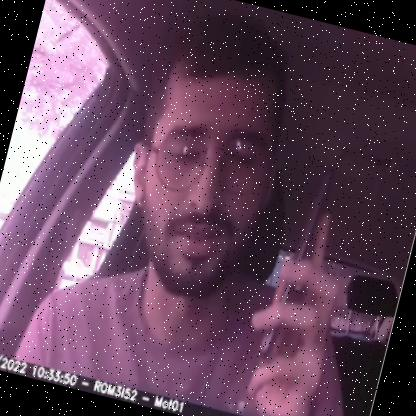phone: (247, 169, 354, 388)
